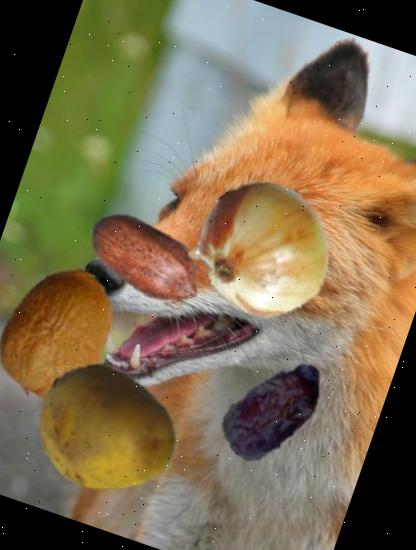Dates: (200, 335, 349, 484)
Kiwi: (0, 246, 145, 421)
Nut: (64, 177, 228, 340)
Onion: (175, 162, 352, 340)
Potato: (18, 338, 196, 516)
